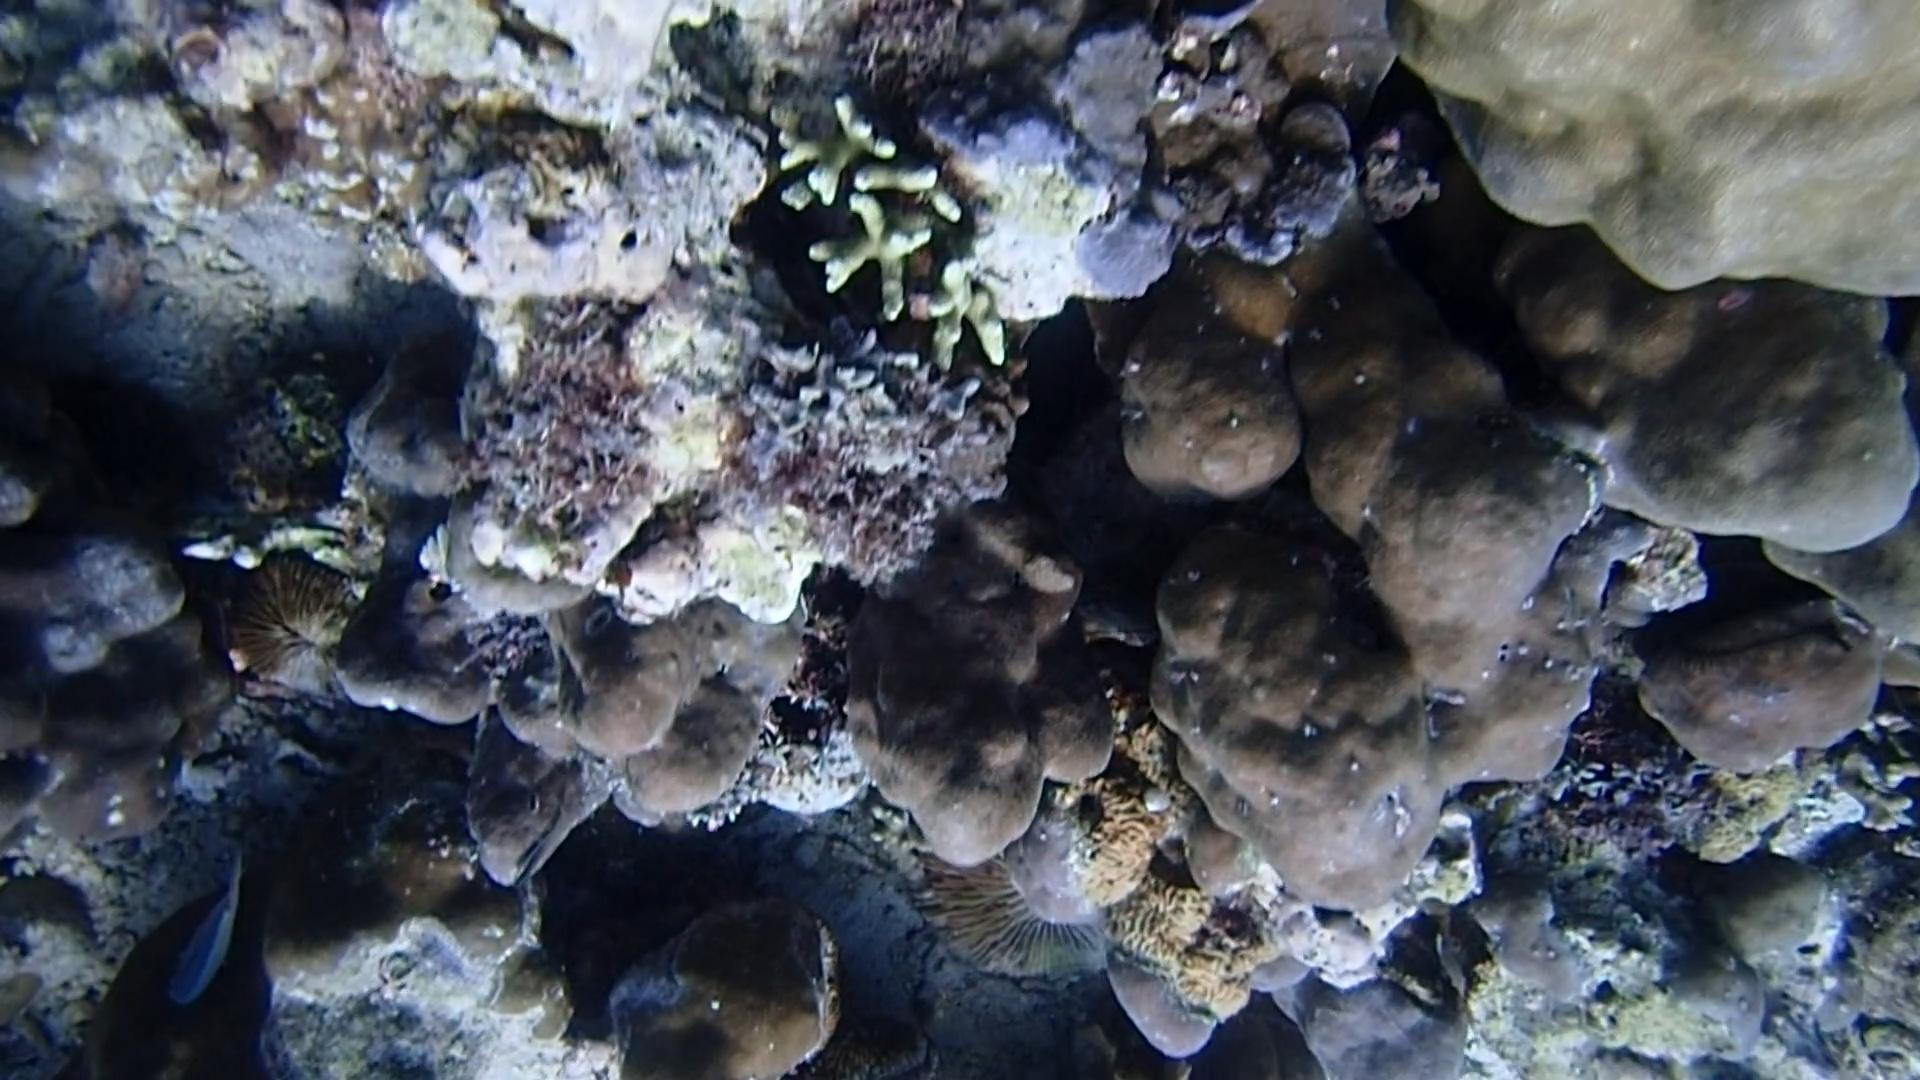Blue Fish Two: (157, 844, 269, 1014)
